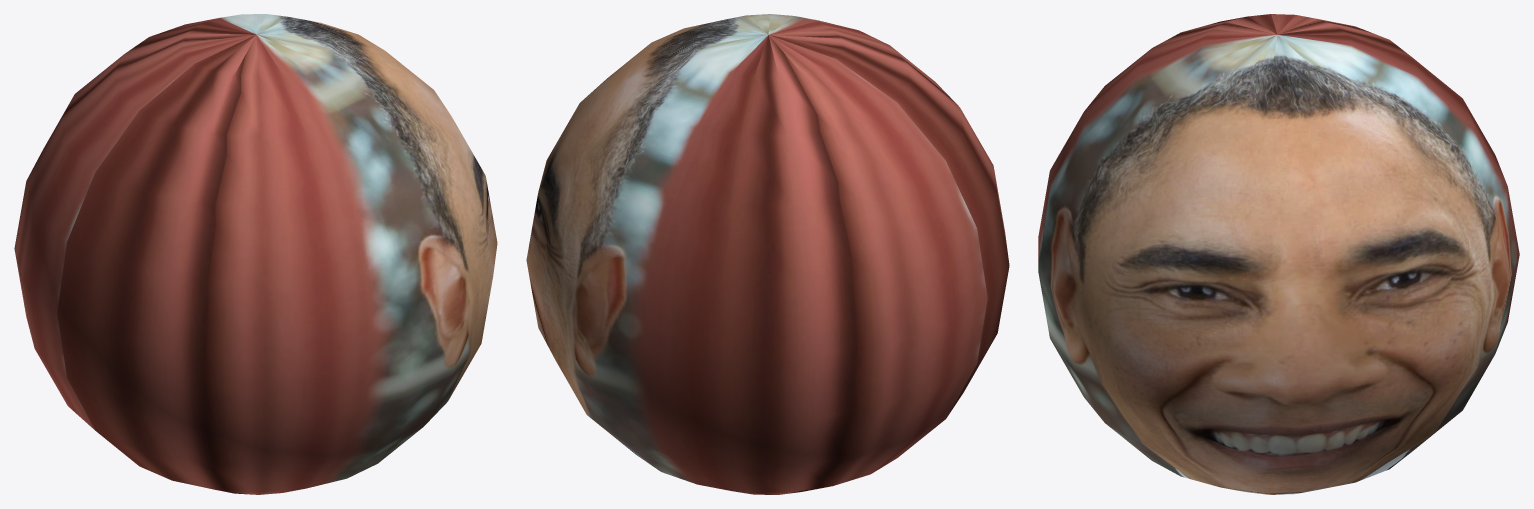
Rendered from ObamaHead.fbx.
3 views of the same model, side by side, from view 1: azimuth 30°, elevation 25°; view 2: azimuth 150°, elevation 25°; view 3: azimuth 270°, elevation 25° (orthographic).
Visible parts, largest first — view 1: Sphere; view 2: Sphere; view 3: Sphere.
Boxes of the visible parts, x1,y1,x2,y2 form: Sphere: [14, 14, 497, 494]; Sphere: [526, 14, 1009, 494]; Sphere: [1038, 14, 1519, 494].
Size of the model in its own units: 199 by 200 by 199.
